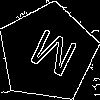M: (22, 27, 80, 87)
